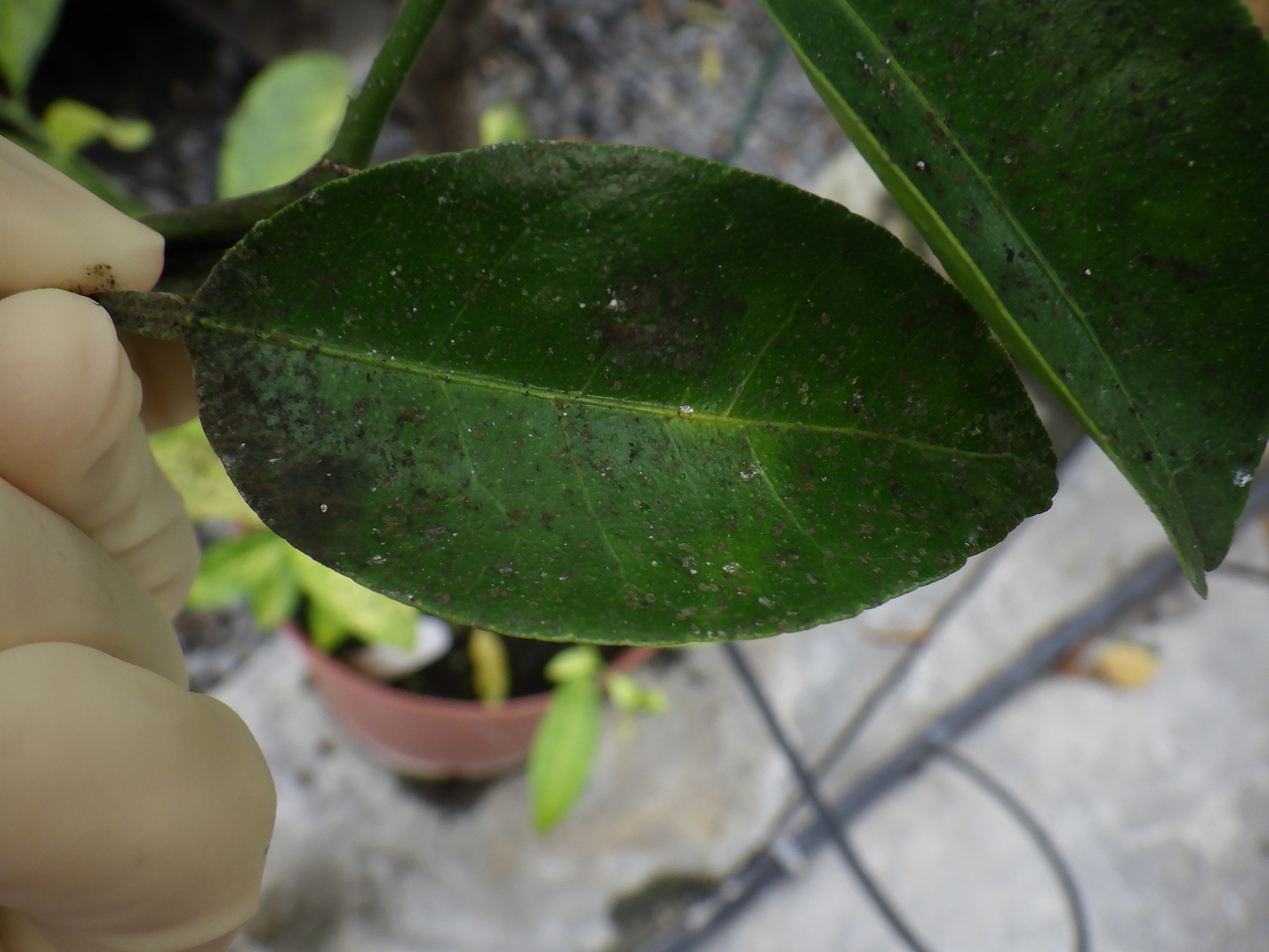Sooty_Mold: (133, 143, 1052, 643)
